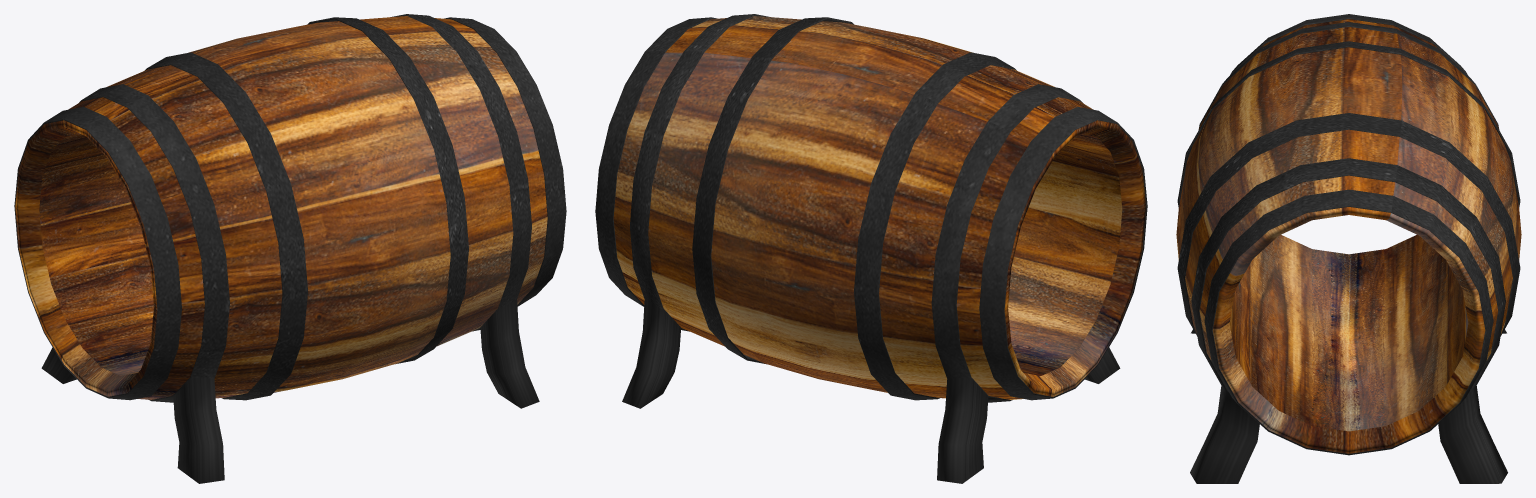
Rendered from barrel_hollow.fbx.
The picture shows the model from 3 angles, left to right: view 1: azimuth 30°, elevation 25°; view 2: azimuth 150°, elevation 25°; view 3: azimuth 270°, elevation 25°; orthographic projection. The views are drawn at different scales.
Visible parts, largest first — view 1: Barrel_hollow; view 2: Barrel_hollow; view 3: Barrel_hollow.
Boxes of the visible parts, bbox=[...] form: Barrel_hollow: bbox=[14, 14, 566, 483]; Barrel_hollow: bbox=[595, 14, 1147, 483]; Barrel_hollow: bbox=[1176, 14, 1521, 483].
Bounding box in the file's own units: 594 × 472 × 452.
